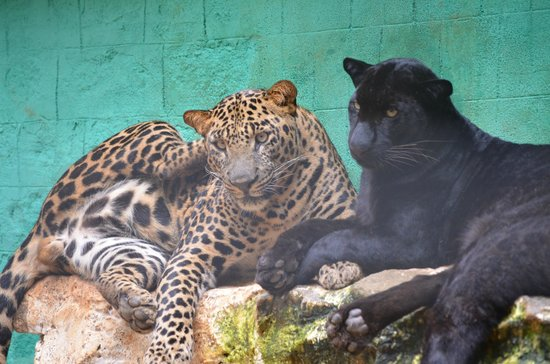Cheetah: (1, 78, 355, 363)
panther: (252, 60, 547, 364)
